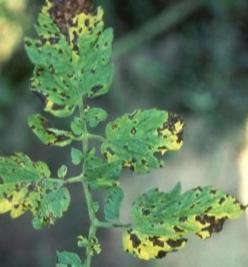Tomato Septoria leaf spot: (23, 0, 124, 115), (116, 185, 248, 262), (91, 109, 198, 172), (0, 149, 76, 235), (23, 113, 74, 154)
